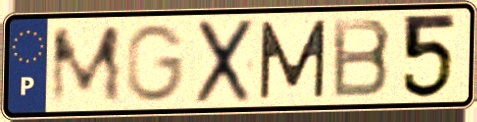5: (398, 11, 462, 101)
B: (329, 16, 395, 101)
G: (124, 22, 189, 104)
M: (48, 22, 126, 108), (257, 17, 330, 102)
X: (193, 16, 257, 107)
